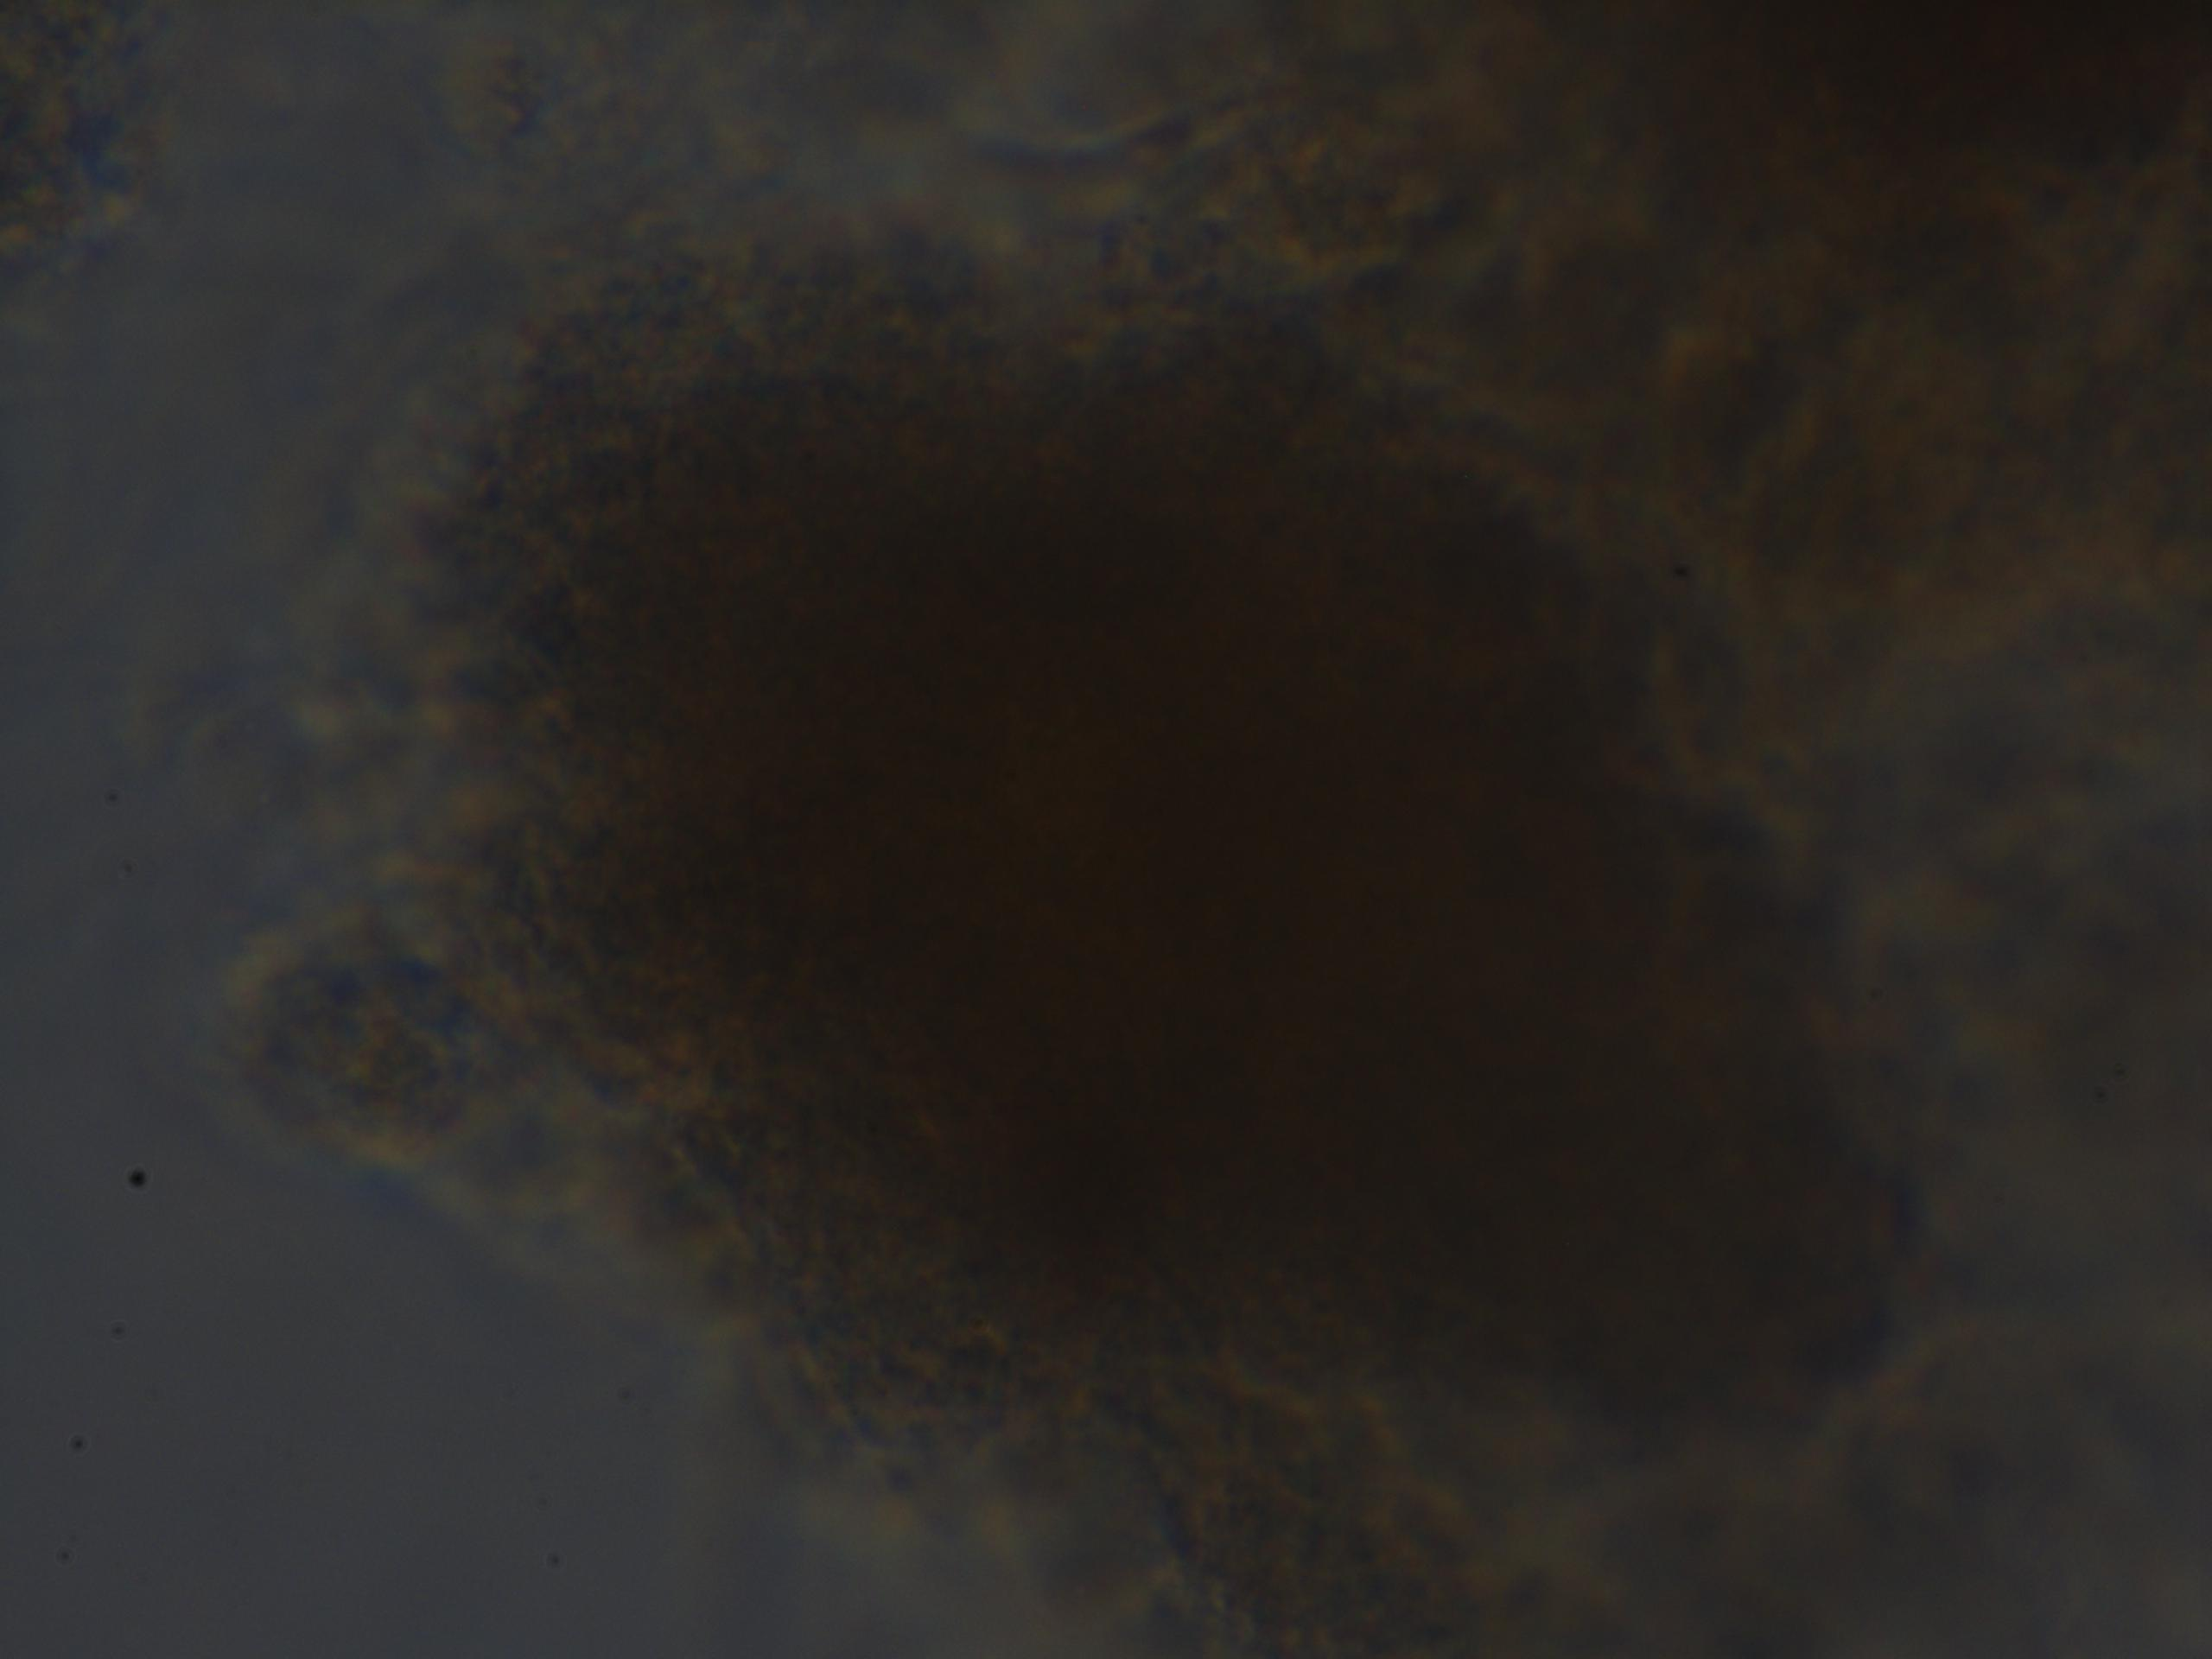spherical_floc: (427, 213, 1939, 1474)
